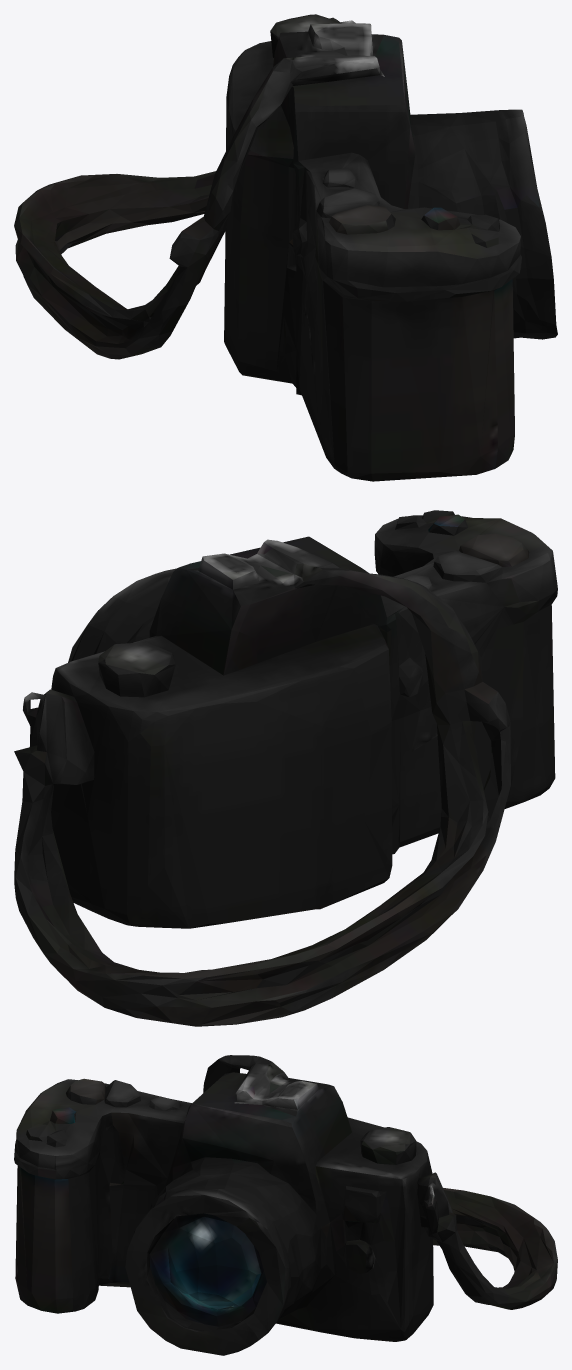
The model's file is camera.glb.
The picture shows the model from 3 angles, top to bottom: view 1: azimuth 30°, elevation 25°; view 2: azimuth 150°, elevation 25°; view 3: azimuth 270°, elevation 25°; orthographic projection. The views are drawn at different scales.
Parts seen in each view (by area): view 1: geometry_0; view 2: geometry_0; view 3: geometry_0.
Boxes of the visible parts, left/top/right/bottom form: geometry_0: left=14, top=14, right=557, bottom=481; geometry_0: left=14, top=510, right=557, bottom=1026; geometry_0: left=14, top=1055, right=557, bottom=1355.
Size of the model in its own units: 0.1292 by 0.0912 by 0.2.
1 material, 1 textured.
